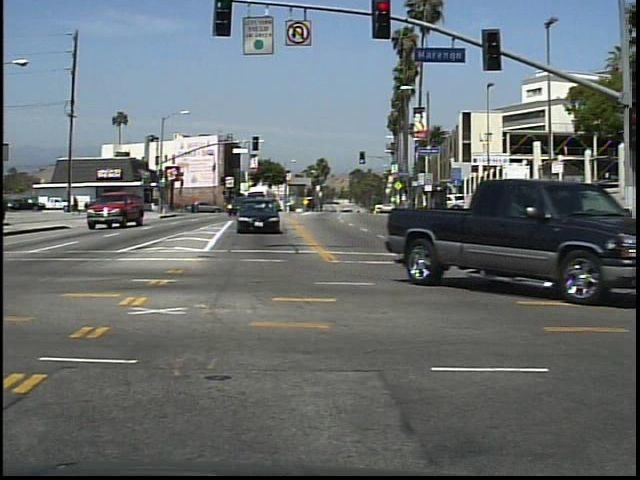person: (70, 193, 84, 218)
